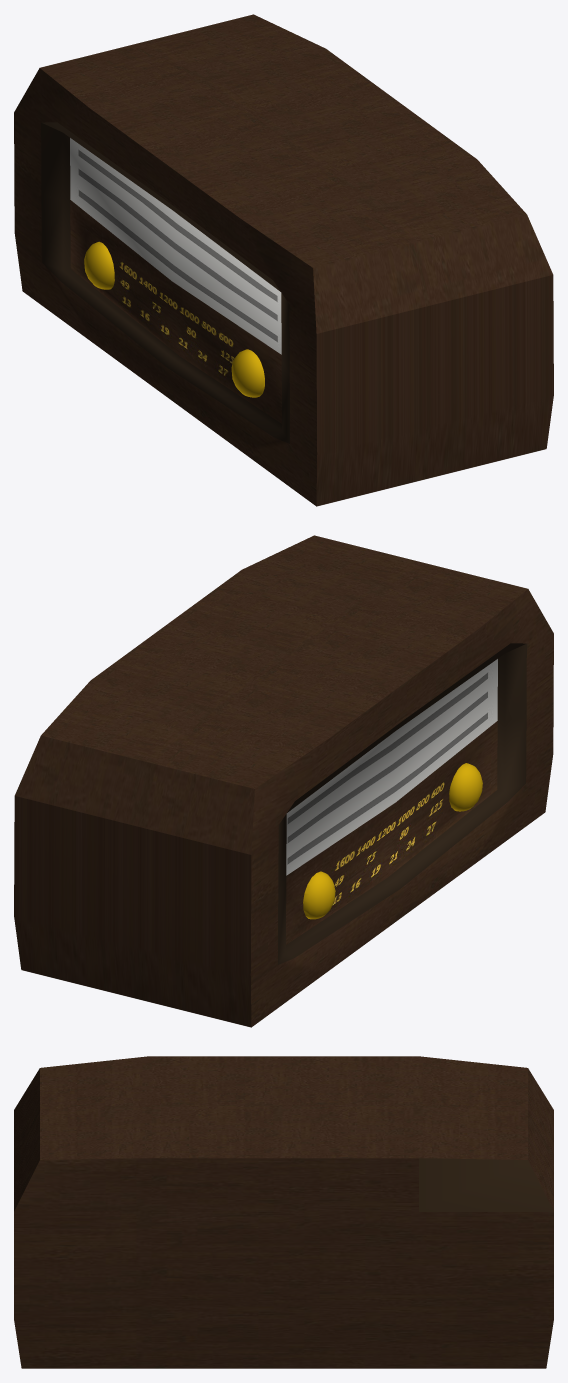
File: radio_model.FBX
3 renders of one model, top to bottom at view 1: azimuth 30°, elevation 25°; view 2: azimuth 150°, elevation 25°; view 3: azimuth 270°, elevation 25°, orthographic. The views are drawn at different scales.
Visible parts, largest first — view 1: radio; view 2: radio; view 3: radio.
Boxes of the visible parts, left/top/right/bottom form: radio: left=14, top=14, right=553, bottom=506; radio: left=14, top=535, right=553, bottom=1027; radio: left=14, top=1056, right=553, bottom=1368.
Bounding box in the file's own units: 4.17 × 4 × 9.1.
1 material, 1 textured.
